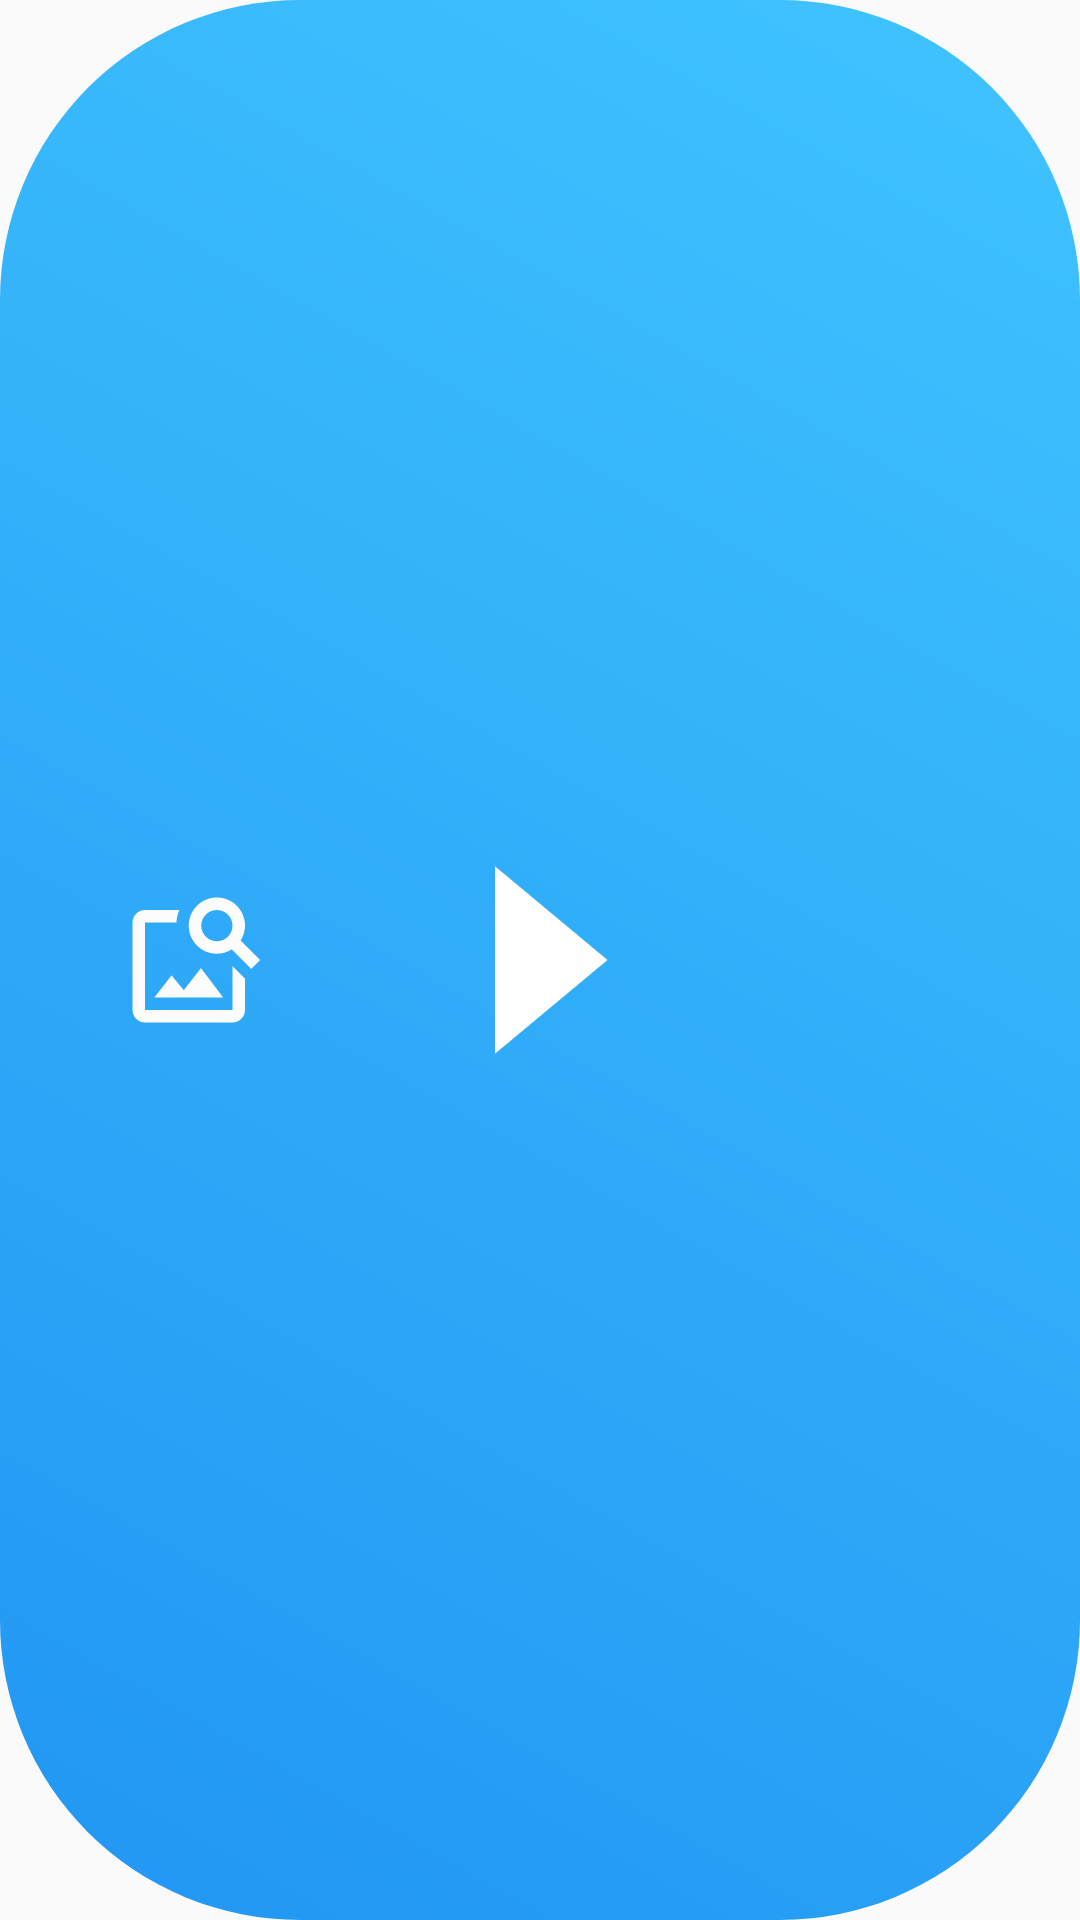

Locate icon controls on the screen. Image size 1080w x 1920h, boxes as detection(x1, y1, x2, y2).
arrow right: detection(495, 866, 607, 1054)
search: detection(132, 897, 260, 1023)
